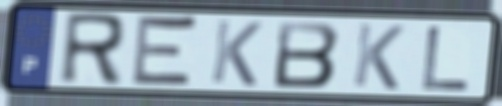B: (270, 19, 343, 90)
E: (127, 11, 202, 92)
K: (207, 17, 265, 89), (349, 21, 407, 93)
L: (418, 24, 474, 93)
R: (55, 11, 128, 89)
